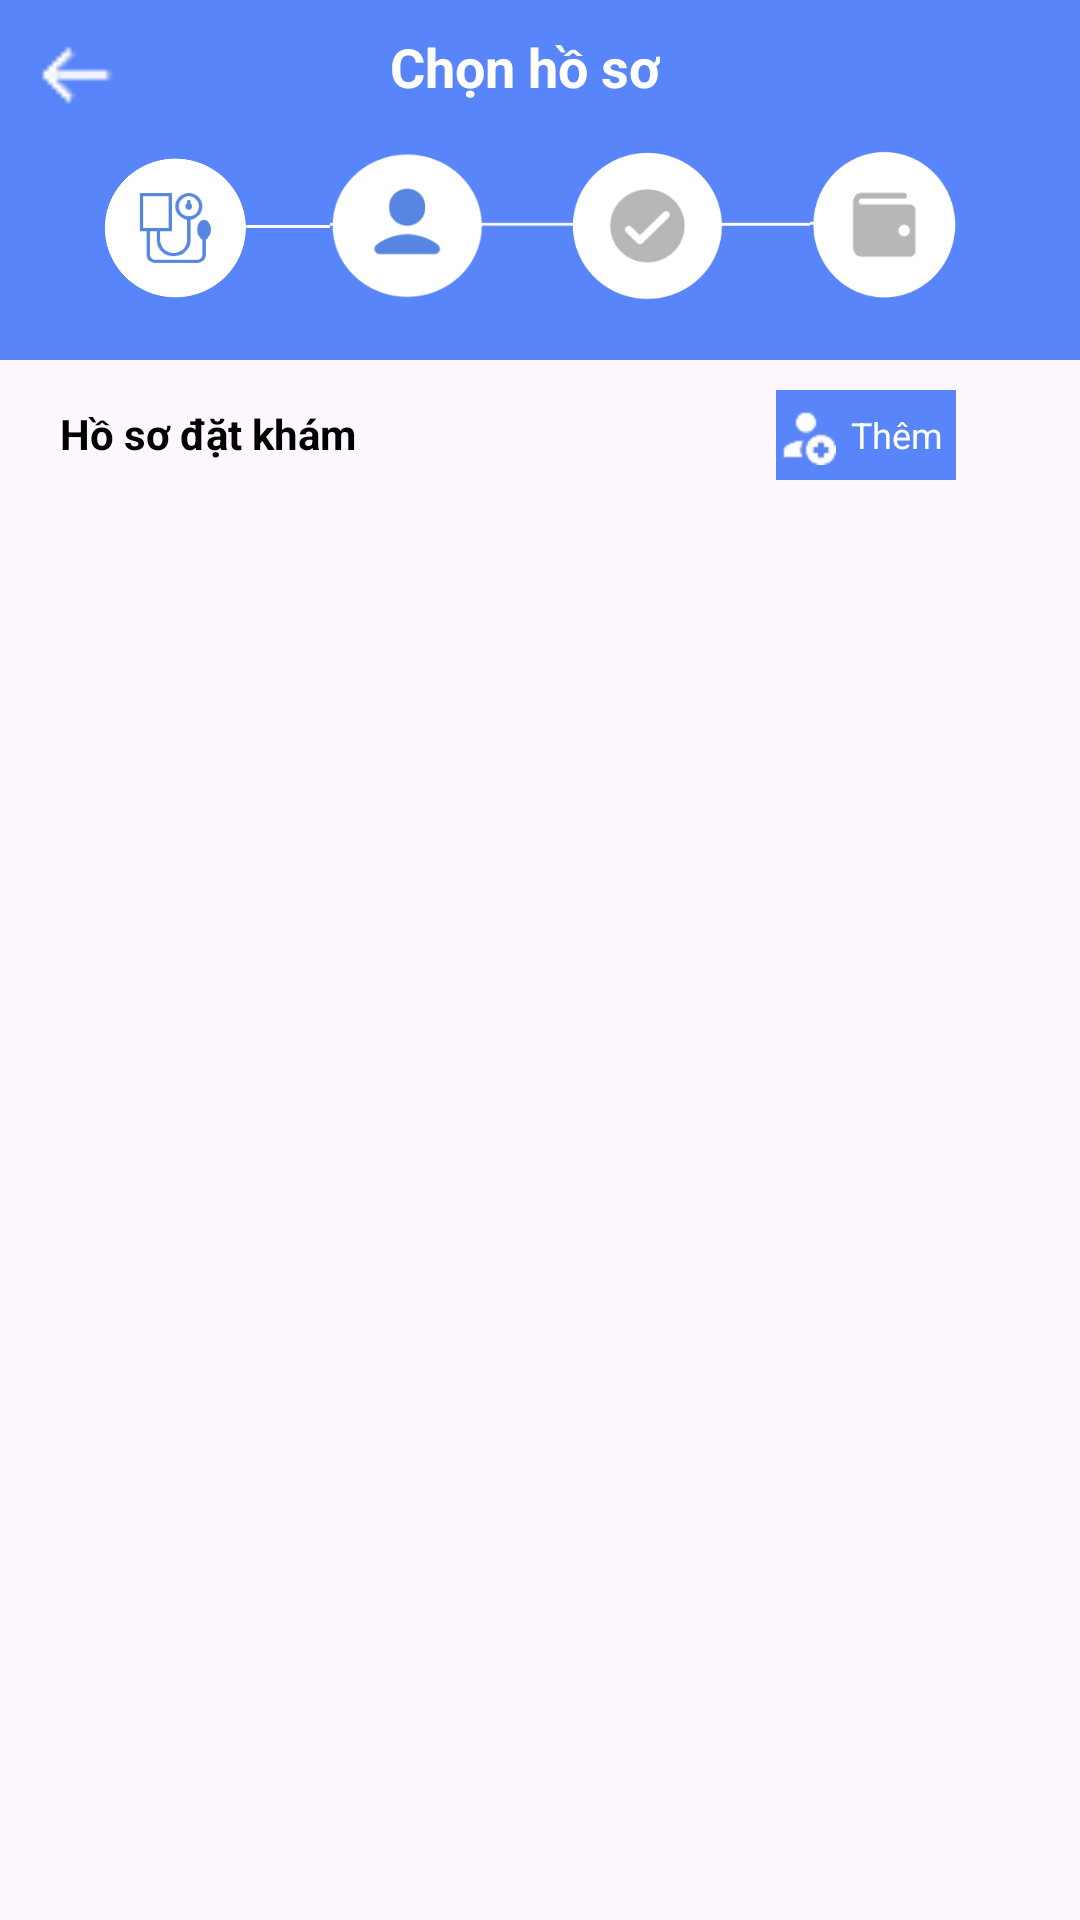

Point at icon controls on the screen. Image size 1080*1920, points as [x,y].
add user: [809,438]
left: [76,75]
